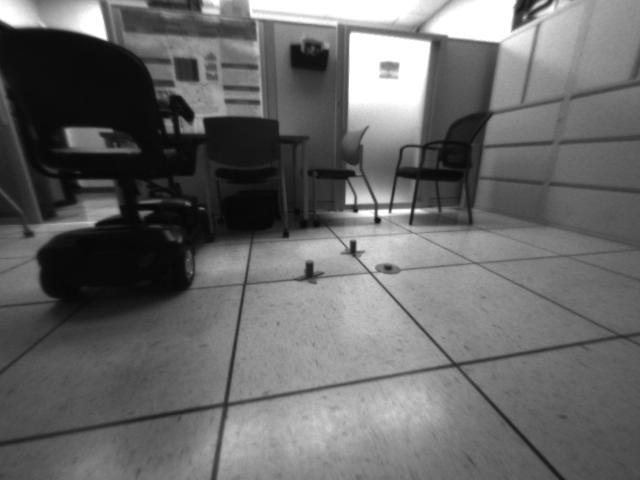X: (295, 261, 323, 285), (341, 238, 366, 258)
